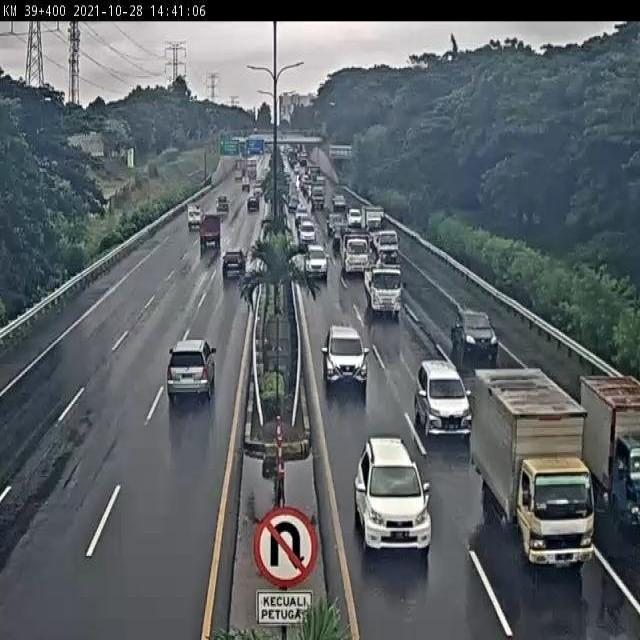car: (352, 436, 434, 552), (413, 359, 473, 440), (322, 325, 366, 388), (451, 309, 499, 360), (222, 246, 248, 278)
mid truck: (472, 370, 594, 570), (166, 339, 216, 401), (363, 260, 400, 313)
small truck: (581, 374, 640, 514)
